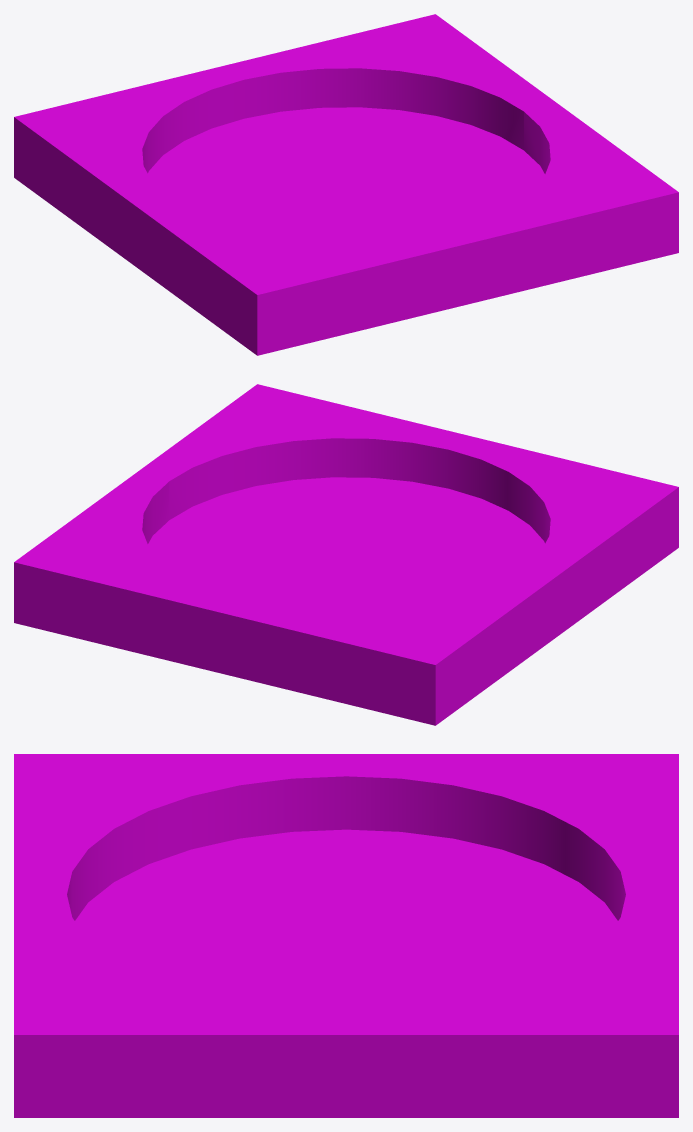
Rendered from Form_Slider_03_Base.fbx.
3 views of the same model, one above another, from view 1: azimuth 30°, elevation 25°; view 2: azimuth 150°, elevation 25°; view 3: azimuth 270°, elevation 25° (orthographic). The views are drawn at different scales.
Visible parts, largest first — view 1: Form_Slider_03_Base; view 2: Form_Slider_03_Base; view 3: Form_Slider_03_Base.
Part boxes in pixels (x1,y1,x2,y2): Form_Slider_03_Base: (14, 14, 678, 355); Form_Slider_03_Base: (14, 384, 678, 725); Form_Slider_03_Base: (14, 754, 678, 1117).
Size of the model in its own units: 17.44 by 2.4 by 17.44.
